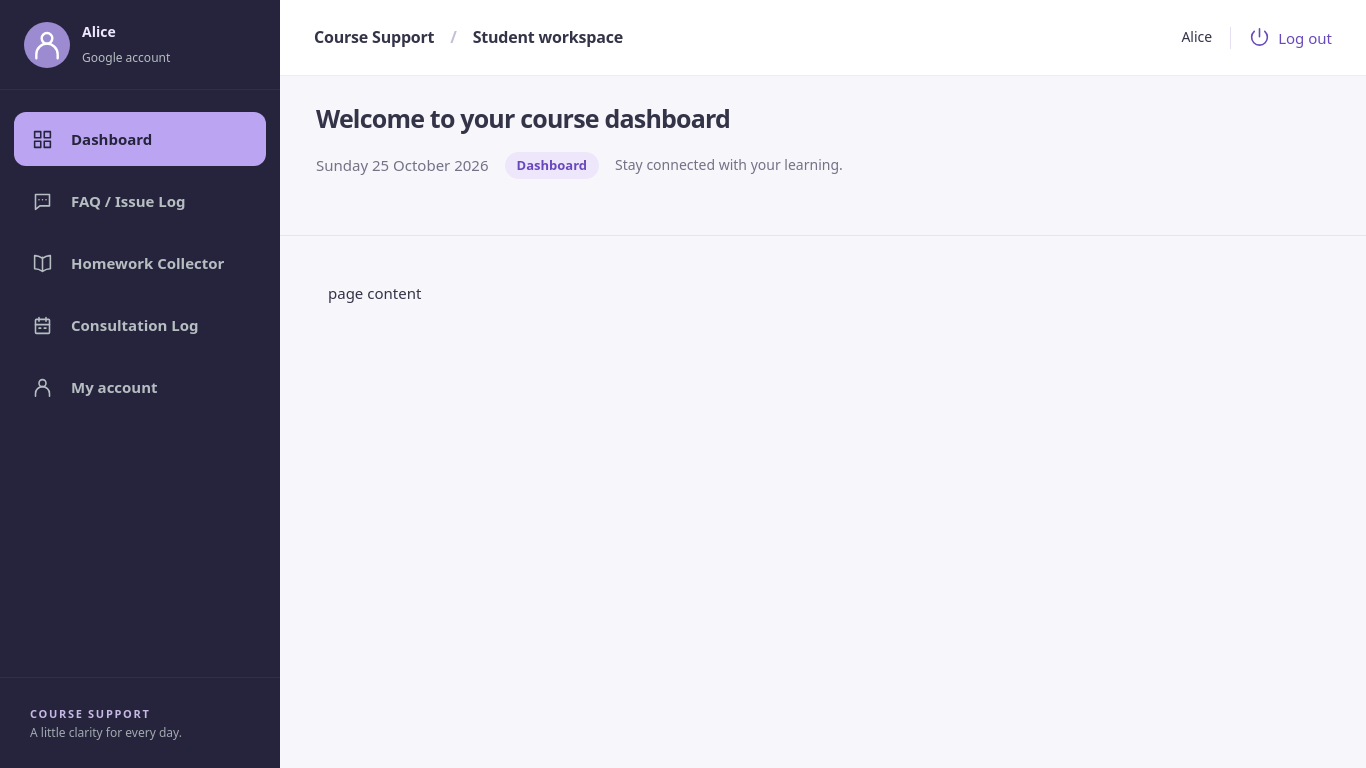
Scenario: AppShell (signed in) › opens the account dialog with the viewer's details, falling back to 'Not provided'
This screenshot has width=1366, height=768.
Click the button "My account" at {"x": 140, "y": 387}, box [14,360,266,414]
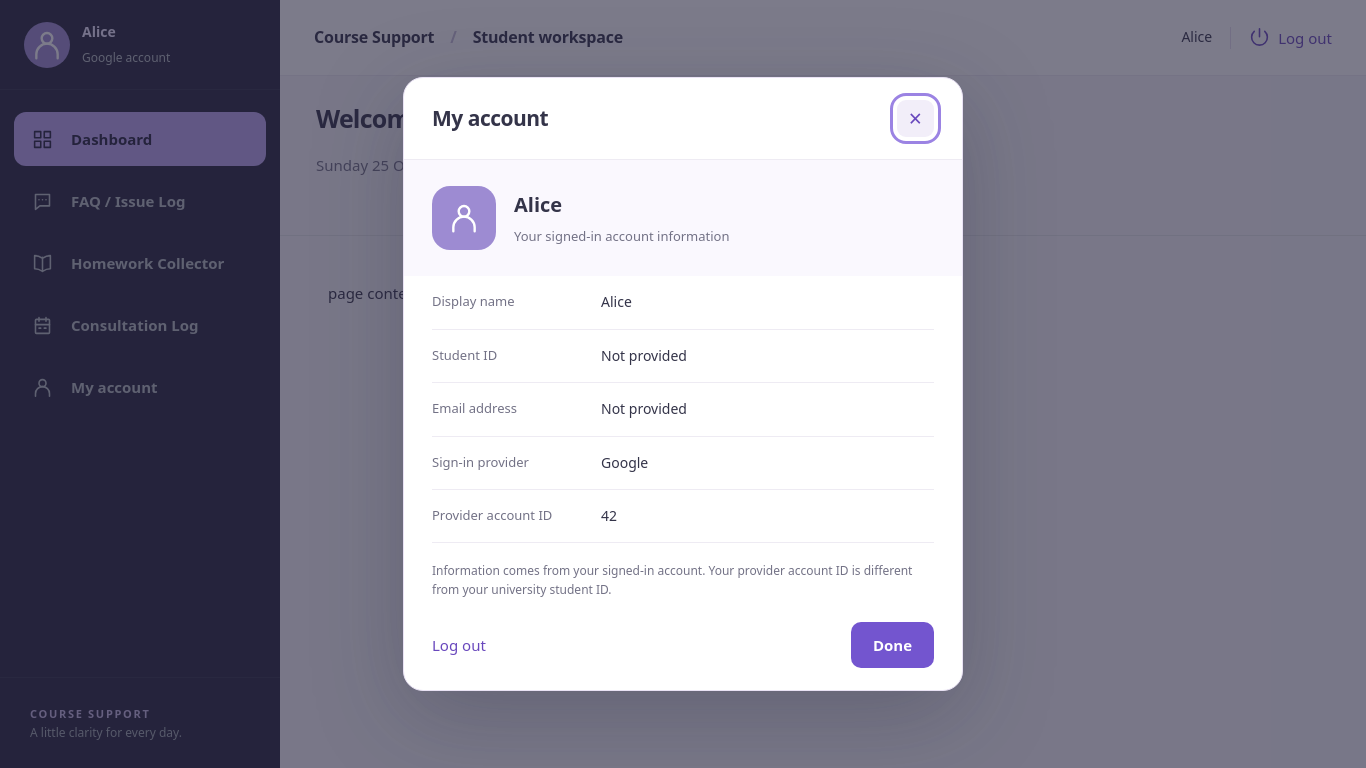
Expected: the text "Not provided" is shown 2 times, [601,346,687,365]; [601,399,687,418]
Expected: the text "Google" is shown, [601,452,648,472]
